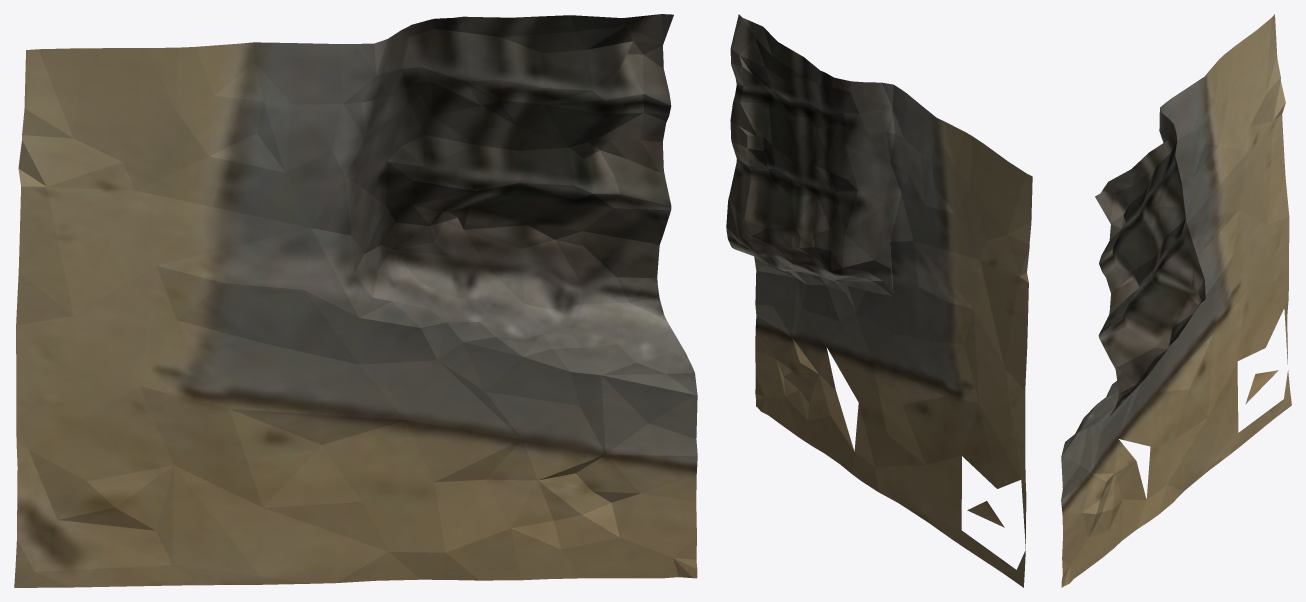
3 views of the same model, side by side, from view 1: azimuth 30°, elevation 25°; view 2: azimuth 150°, elevation 25°; view 3: azimuth 270°, elevation 25° (orthographic). The views are drawn at different scales.
Size of the model in its own units: 0.8373 by 0.8374 by 0.4477.
Materials: 3 (3 with a texture image).
